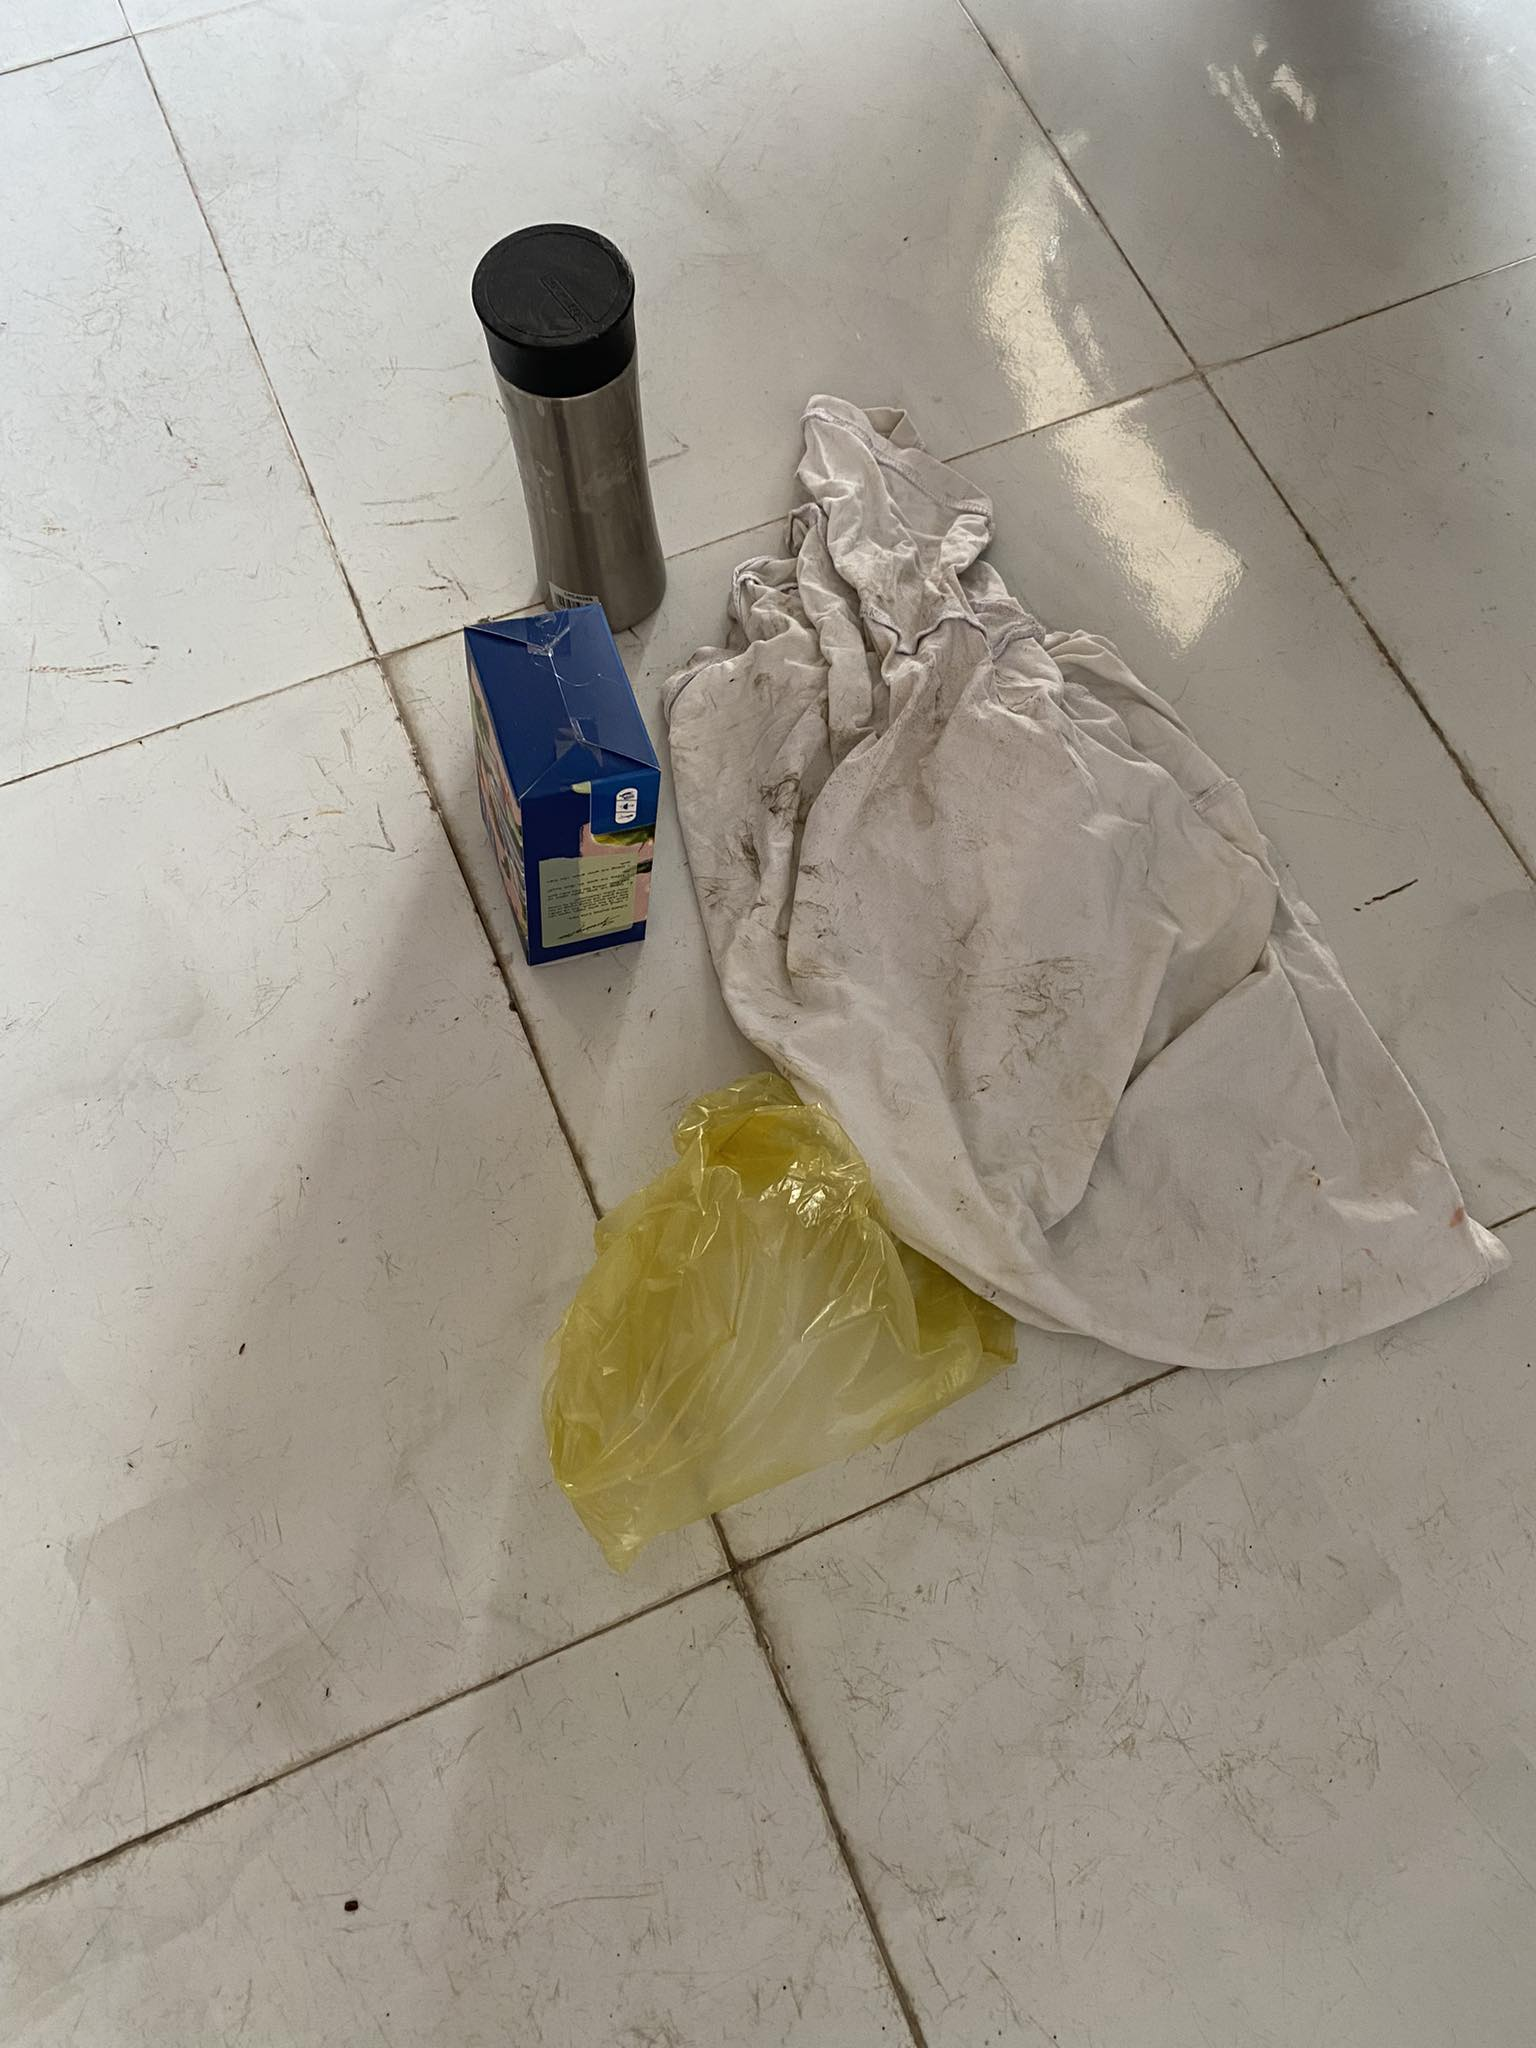cardboard: (358, 593, 674, 979)
clothes: (670, 377, 1484, 1438)
metal: (407, 221, 700, 624)
plastic bag: (423, 1063, 1028, 1617)
